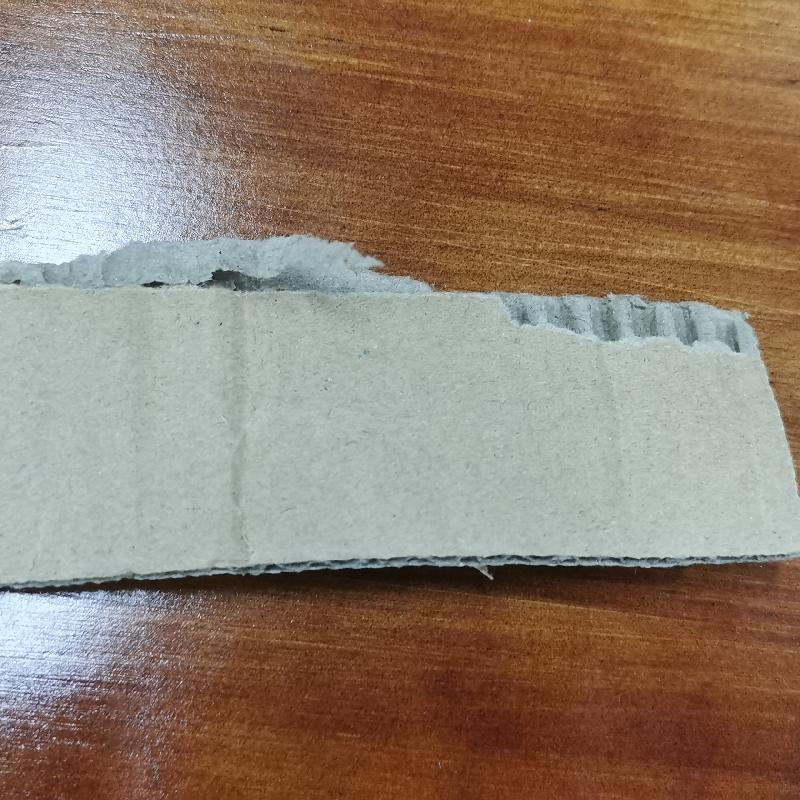boxes: (1, 232, 799, 596)
